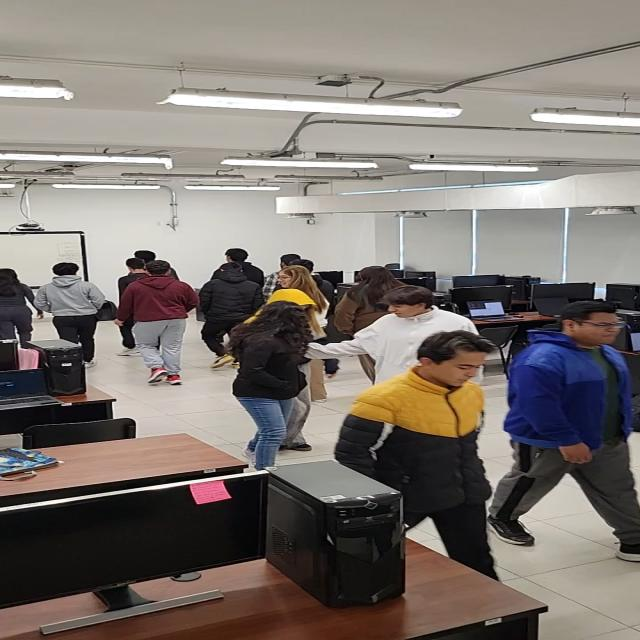Persona: (332, 330, 504, 584), (495, 298, 640, 560), (233, 294, 318, 472), (114, 260, 188, 385), (356, 284, 441, 369), (41, 263, 99, 367), (199, 258, 247, 358), (342, 259, 402, 333), (1, 264, 32, 349)
